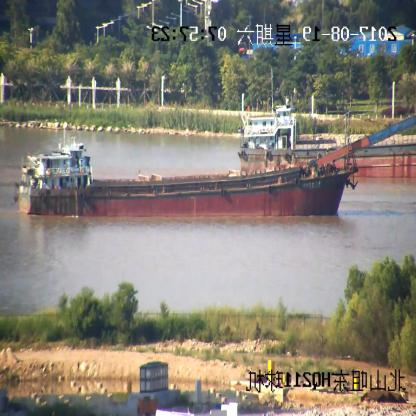Bulk Carrier: (16, 113, 415, 216), (238, 99, 416, 169)
